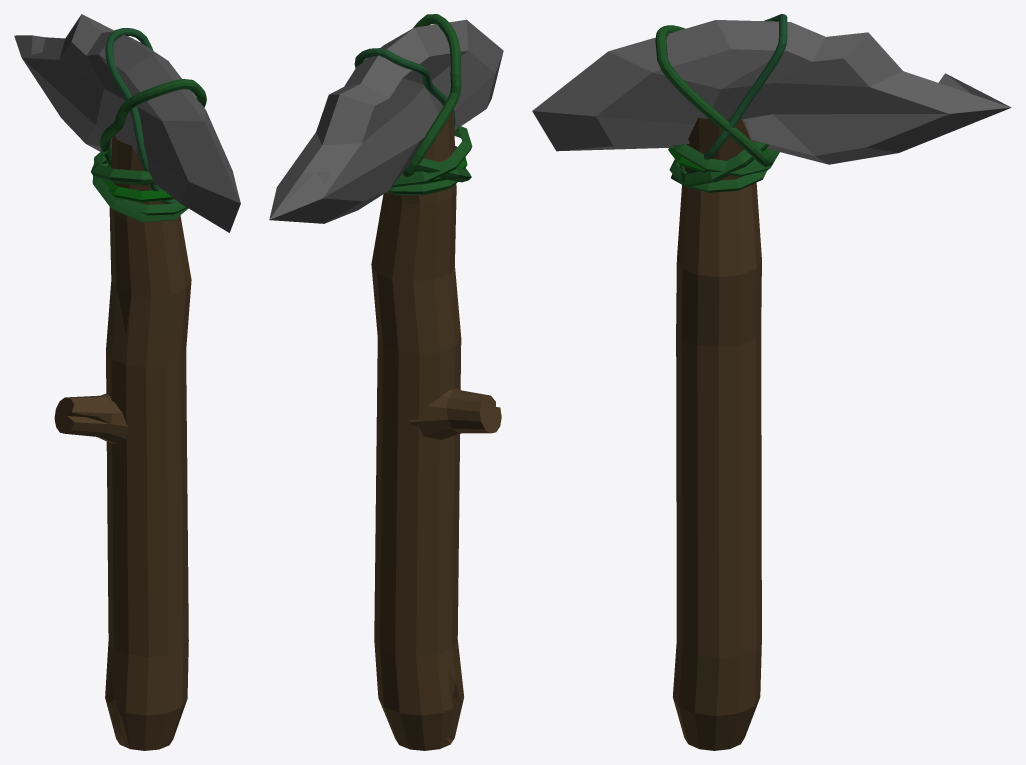
File: Pick_Axe.fbx
The picture shows the model from 3 angles, left to right: view 1: azimuth 30°, elevation 25°; view 2: azimuth 150°, elevation 25°; view 3: azimuth 270°, elevation 25°; orthographic projection. The views are drawn at different scales.
Parts seen in each view (by area): view 1: stick, stone, roope; view 2: stick, stone, roope; view 3: stick, stone, roope.
Boxes of the visible parts, <box> form: stick: <box>54,135,191,750</box>; stone: <box>14,14,240,232</box>; roope: <box>91,28,206,222</box>; stick: <box>371,111,501,750</box>; stone: <box>269,19,503,223</box>; roope: <box>354,14,472,195</box>; stick: <box>673,117,761,750</box>; stone: <box>532,20,1011,164</box>; roope: <box>655,14,787,192</box>.
Bounding box in the file's own units: 371 × 1882 × 1127.
